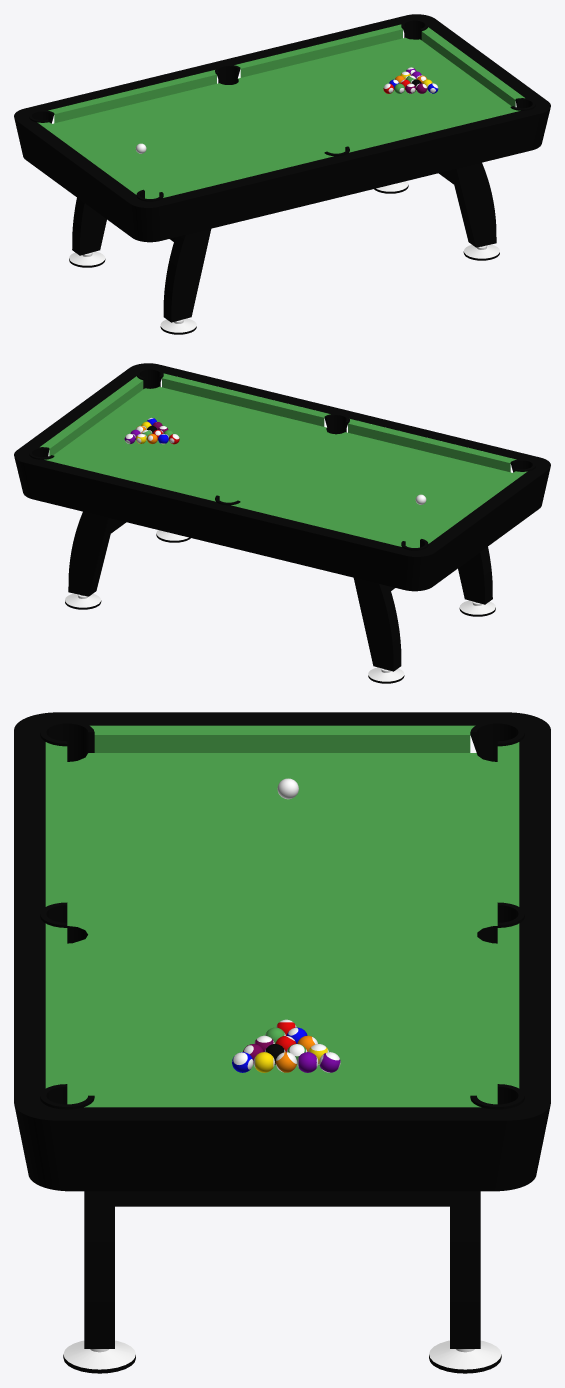
Rendered from pool-table-8ft-medium.glb.
The picture shows the model from 3 angles, top to bottom: view 1: azimuth 30°, elevation 25°; view 2: azimuth 150°, elevation 25°; view 3: azimuth 270°, elevation 25°; orthographic projection. The views are drawn at different scales.
Parts seen in each view (by area): view 1: Mesh45 Group1 Model, Mesh3 Group3 Group1 Model, Mesh7 Group5 Group1 Model, Mesh1 Group2 Group1 Model, Mesh18 patte2 Group1 Model, Mesh9 patte1 Group1 Model, Mesh27 patte3 Group1 Model; view 2: Mesh45 Group1 Model, Mesh1 Group2 Group1 Model, Mesh5 Group4 Group1 Model, Mesh3 Group3 Group1 Model, Mesh36 patte4 Group1 Model, Mesh27 patte3 Group1 Model, Mesh9 patte1 Group1 Model; view 3: Mesh45 Group1 Model, Mesh46 Group1 Model, Mesh5 Group4 Group1 Model, Mesh7 Group5 Group1 Model, Mesh36 patte4 Group1 Model, Mesh18 patte2 Group1 Model.
Boxes of the visible parts, x1=… form: Mesh45 Group1 Model: x1=14, y1=14, x2=550, y2=242; Mesh3 Group3 Group1 Model: x1=163, y1=229, x2=211, y2=322; Mesh7 Group5 Group1 Model: x1=450, y1=162, x2=496, y2=247; Mesh1 Group2 Group1 Model: x1=72, y1=198, x2=106, y2=255; Mesh18 patte2 Group1 Model: x1=463, y1=244, x2=499, y2=260; Mesh9 patte1 Group1 Model: x1=160, y1=318, x2=196, y2=334; Mesh27 patte3 Group1 Model: x1=69, y1=251, x2=105, y2=267; Mesh45 Group1 Model: x1=14, y1=363, x2=550, y2=591; Mesh1 Group2 Group1 Model: x1=353, y1=578, x2=401, y2=671; Mesh5 Group4 Group1 Model: x1=68, y1=511, x2=114, y2=596; Mesh3 Group3 Group1 Model: x1=458, y1=547, x2=492, y2=604; Mesh36 patte4 Group1 Model: x1=65, y1=593, x2=101, y2=609; Mesh27 patte3 Group1 Model: x1=368, y1=667, x2=404, y2=683; Mesh9 patte1 Group1 Model: x1=459, y1=600, x2=495, y2=616; Mesh45 Group1 Model: x1=14, y1=712, x2=550, y2=1191; Mesh46 Group1 Model: x1=115, y1=1191, x2=449, y2=1206; Mesh5 Group4 Group1 Model: x1=450, y1=1191, x2=480, y2=1348; Mesh7 Group5 Group1 Model: x1=84, y1=1191, x2=114, y2=1348; Mesh36 patte4 Group1 Model: x1=429, y1=1340, x2=501, y2=1373; Mesh18 patte2 Group1 Model: x1=63, y1=1340, x2=135, y2=1373.
Size of the model in its own units: 2.38 by 0.8001 by 1.32.
